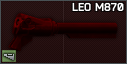M870 Mesa Tactical LEO stock adapter: (0, 0, 127, 64)
